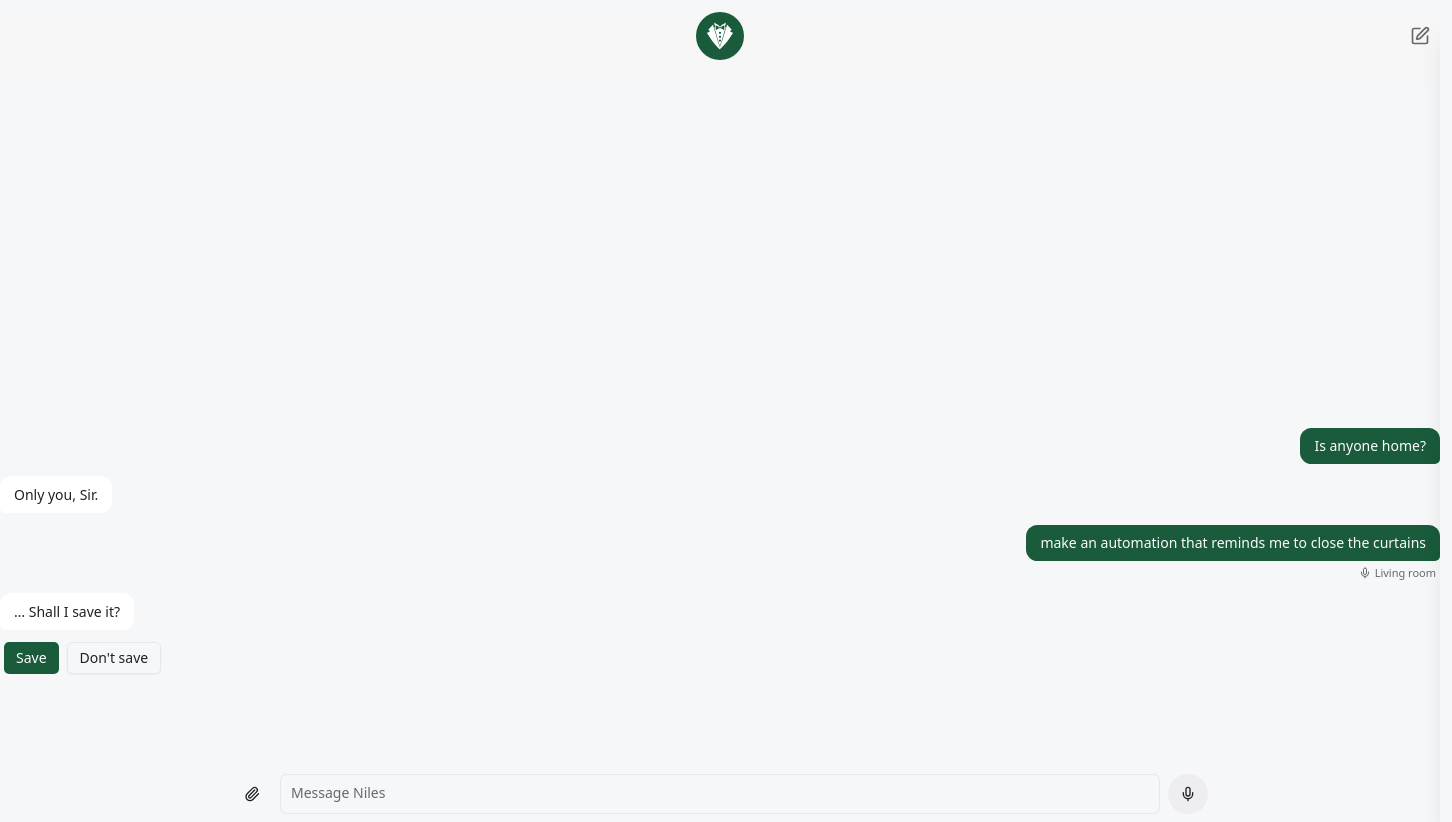
ChatPage › answers a proposal for the turn that made it, then shows what came of it
The image size is (1452, 822).
Click the button "Save".
click(31, 658)  # box [4,642,59,674]
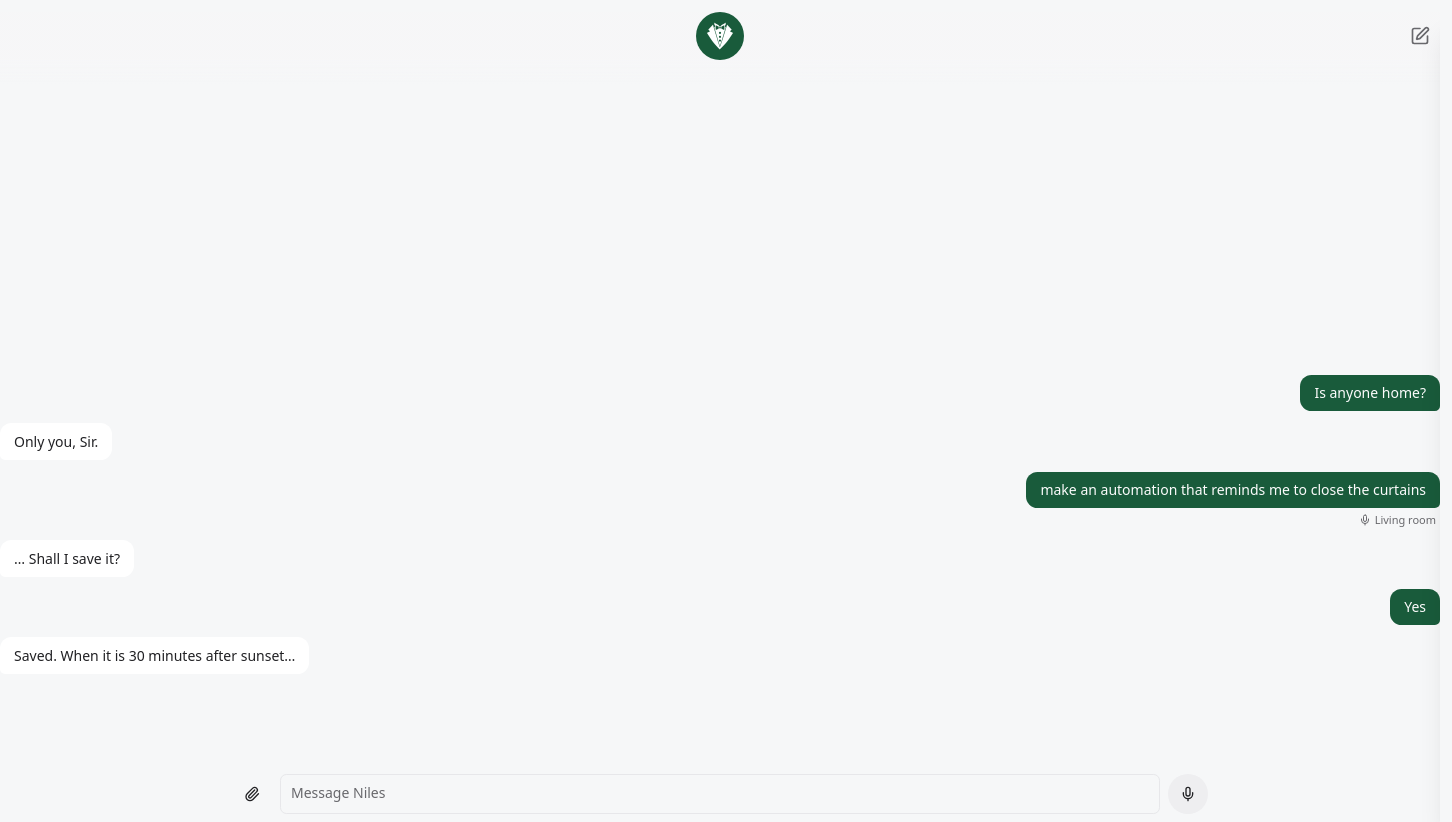
Result: the text "Saved. When it is 30 minutes after sunset…" is shown at [14,645,295,666]
Result: the button "Don't save" is gone
